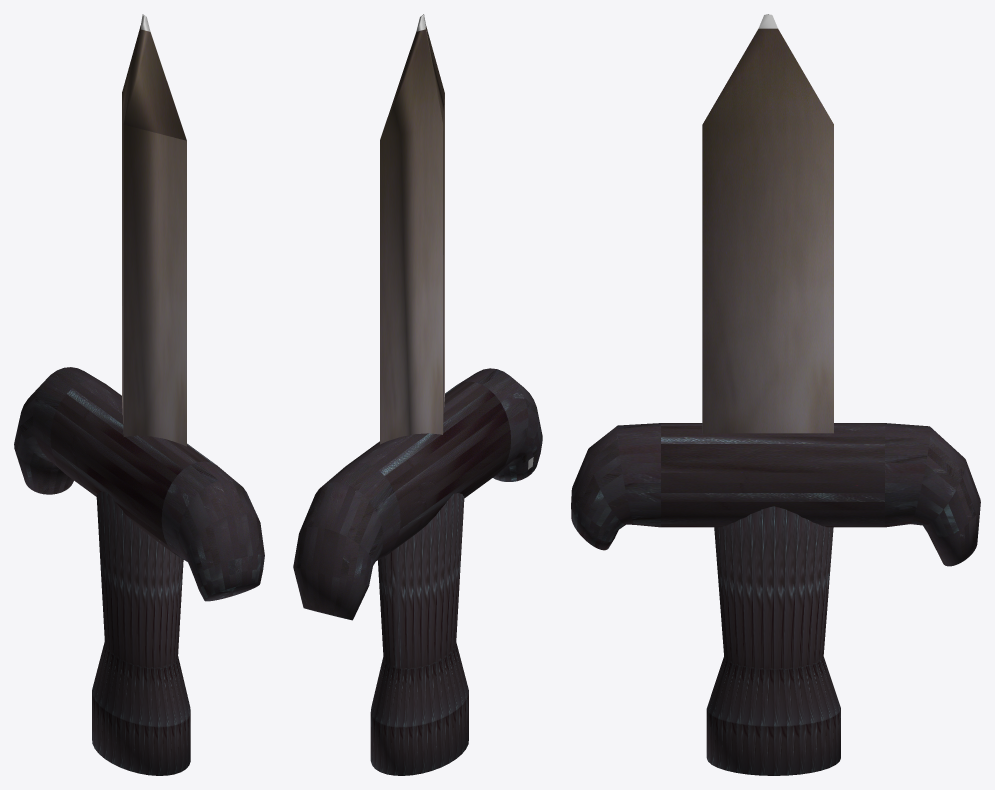
Rendered from DaggerD.fbx.
3 views of the same model, side by side, from view 1: azimuth 30°, elevation 25°; view 2: azimuth 150°, elevation 25°; view 3: azimuth 270°, elevation 25° (orthographic).
Visible parts, largest first — view 1: Handles, Blade, Grip; view 2: Handles, Blade, Grip; view 3: Blade, Handles, Grip.
Boxes of the visible parts, <box> form: Handles: <box>14,367,264,601</box>; Blade: <box>122,14,186,446</box>; Grip: <box>92,491,190,775</box>; Handles: <box>293,368,542,620</box>; Blade: <box>380,14,444,444</box>; Grip: <box>370,493,468,775</box>; Blade: <box>702,14,833,433</box>; Handles: <box>571,423,980,566</box>; Grip: <box>706,506,840,775</box>.
Bounding box in the file's own units: 0.3926 × 3.78 × 1.89.
